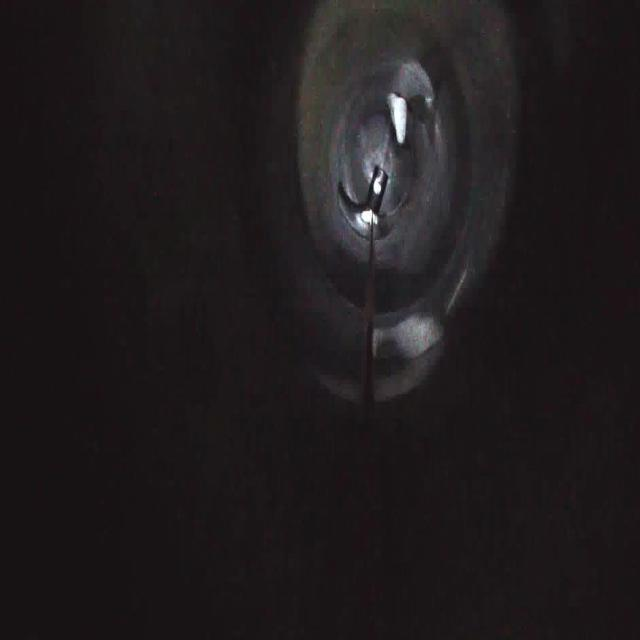impurity: (382, 82, 412, 150)
